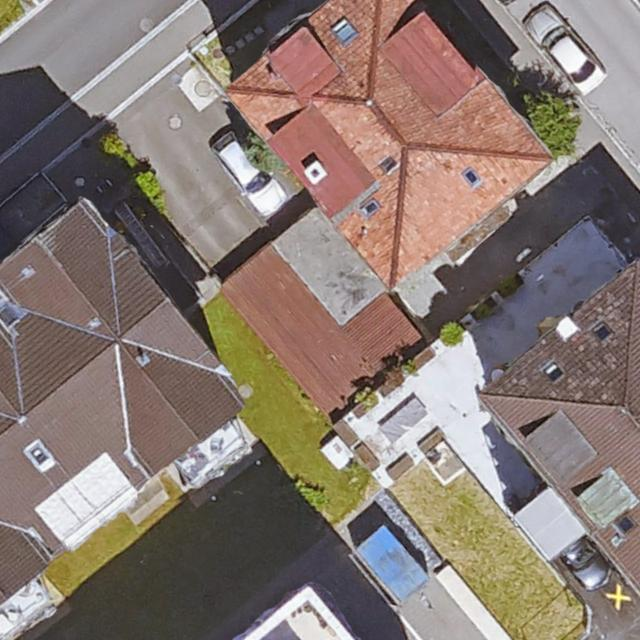tree: (525, 93, 581, 154)
